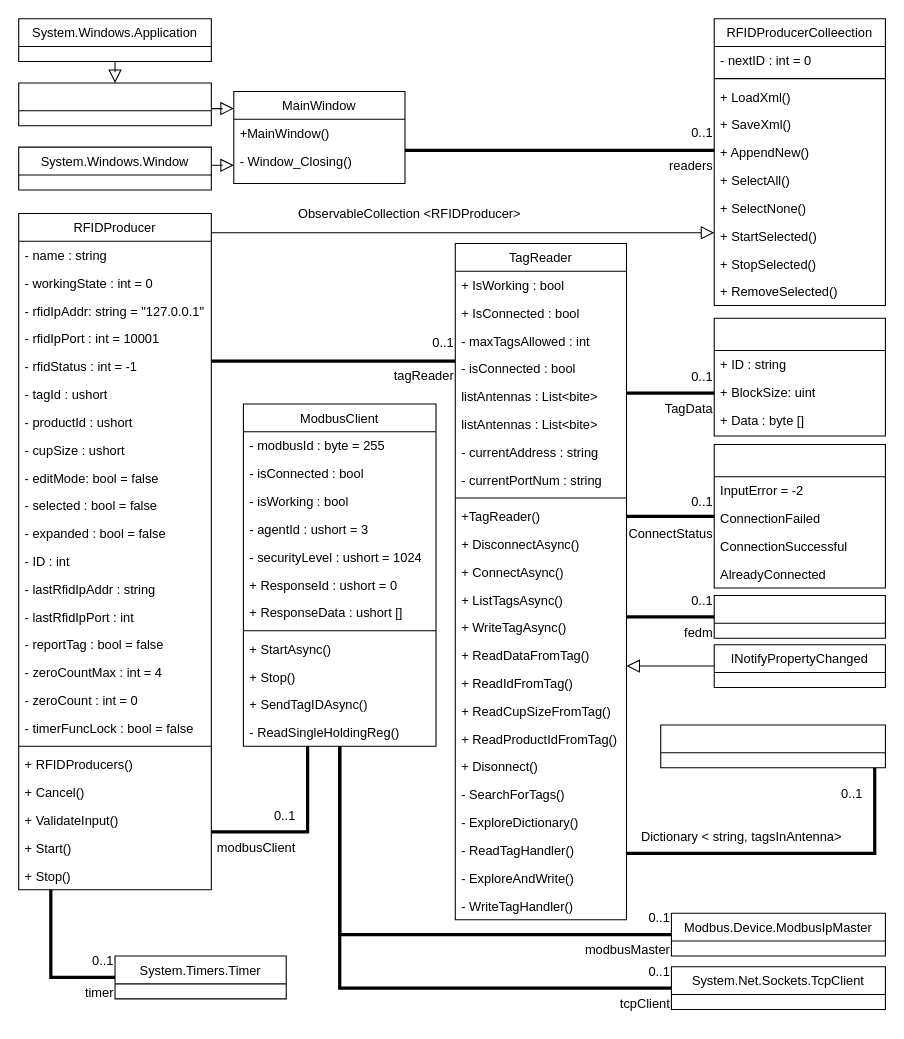
This 904x1039 diagram has some shape labels left out. Each missing label, with the box of its shape:
App: (18, 82, 211, 126)
enum: ConnectStatus: (713, 444, 885, 588)
OBID.FedmlscReader: (713, 594, 885, 638)
OBID.TagHandler.FedmlscTagHandler: (660, 724, 885, 768)
struct: TagData: (713, 317, 885, 436)
